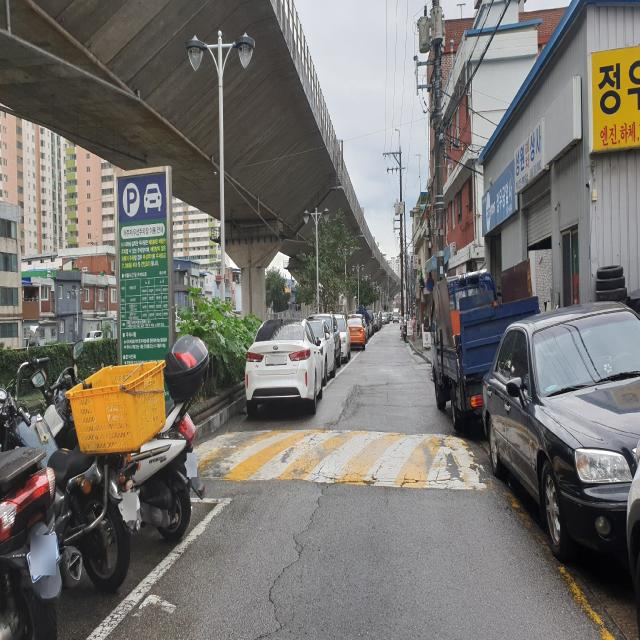car: (484, 299, 639, 559), (432, 260, 538, 431), (246, 318, 326, 418), (626, 444, 640, 633), (346, 319, 368, 351)
motorbike: (0, 356, 130, 591), (0, 378, 55, 640), (130, 401, 190, 544), (400, 320, 409, 341)
